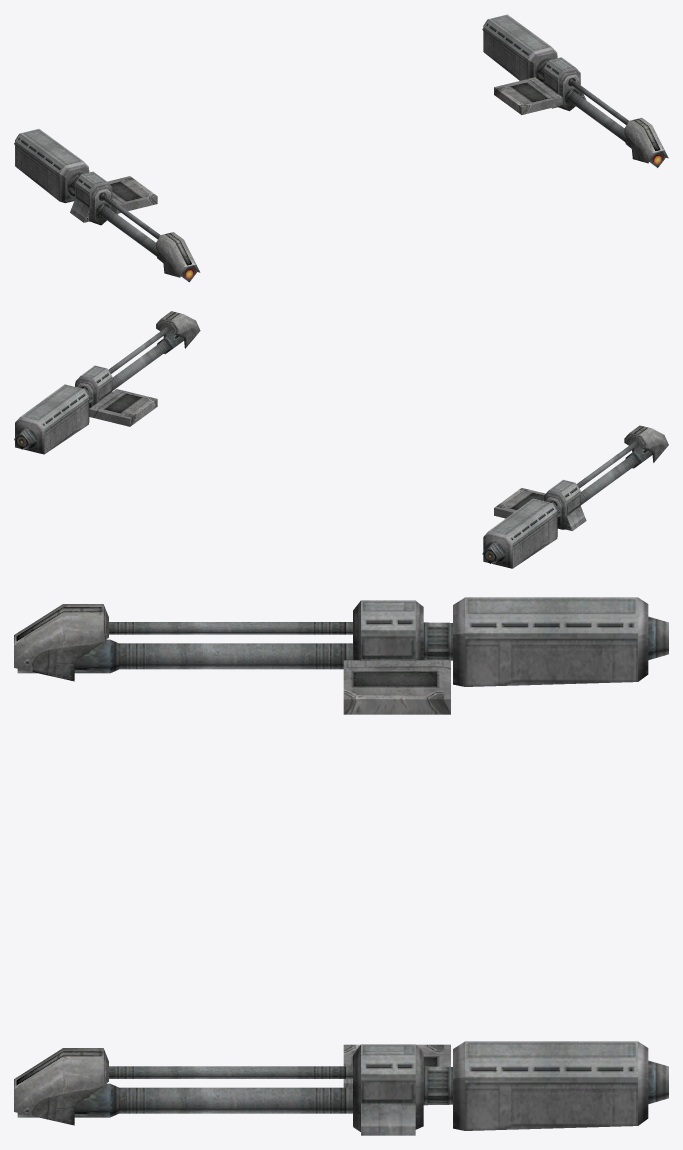
File: awing_weapon_s06_l1.fbx
3 views of the same model, one above another, from view 1: azimuth 30°, elevation 25°; view 2: azimuth 150°, elevation 25°; view 3: azimuth 270°, elevation 25° (orthographic). The views are drawn at different scales.
Visible parts, largest first — view 1: mesh_node; view 2: mesh_node; view 3: mesh_node.
Boxes of the visible parts, x1,y1,x2,y2 form: mesh_node: [14, 14, 668, 282]; mesh_node: [14, 311, 668, 568]; mesh_node: [14, 597, 668, 1135].
Bounding box in the file's own units: 9.39 × 0.7542 × 5.45.
